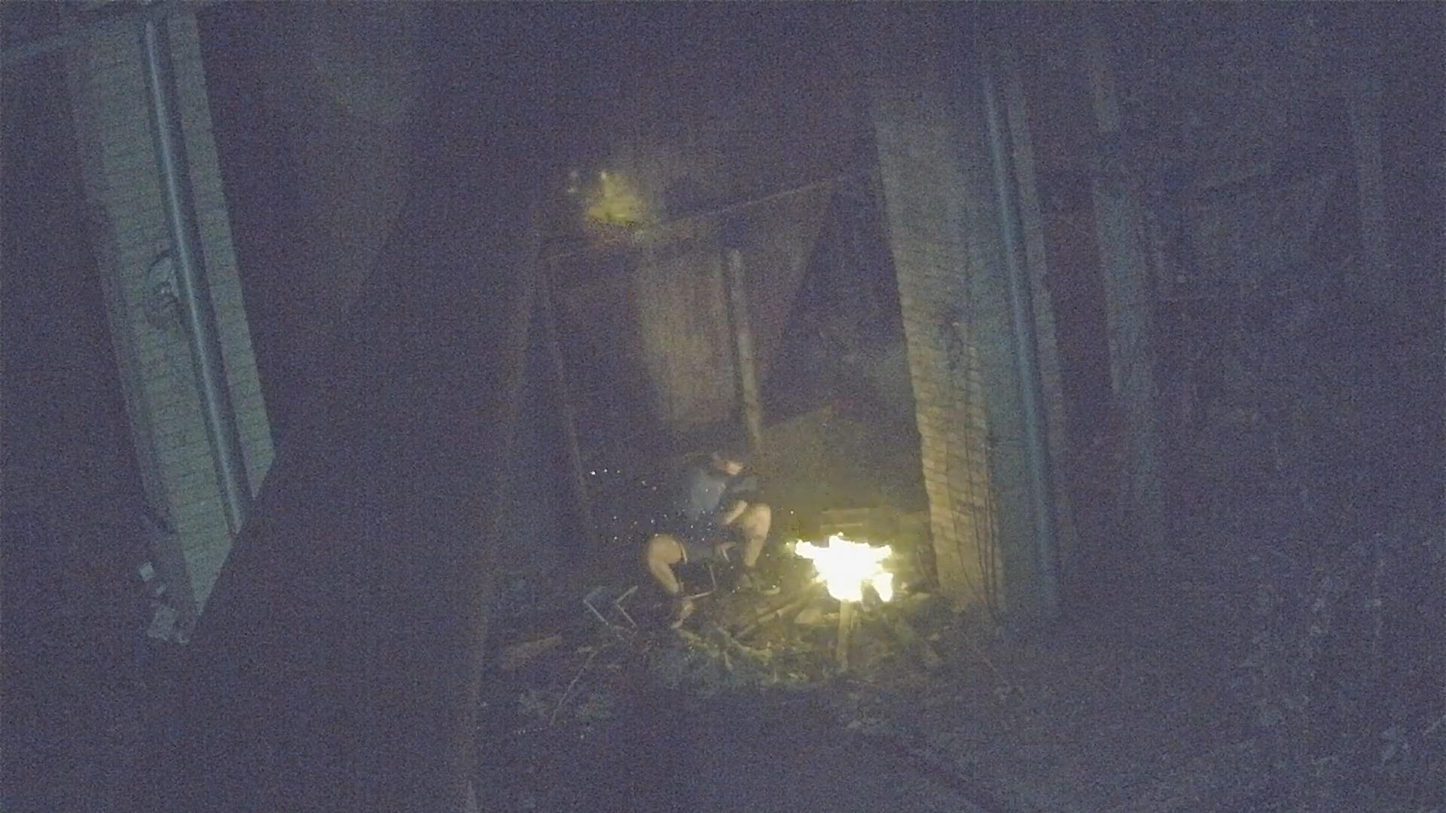fire: (795, 535, 892, 603)
